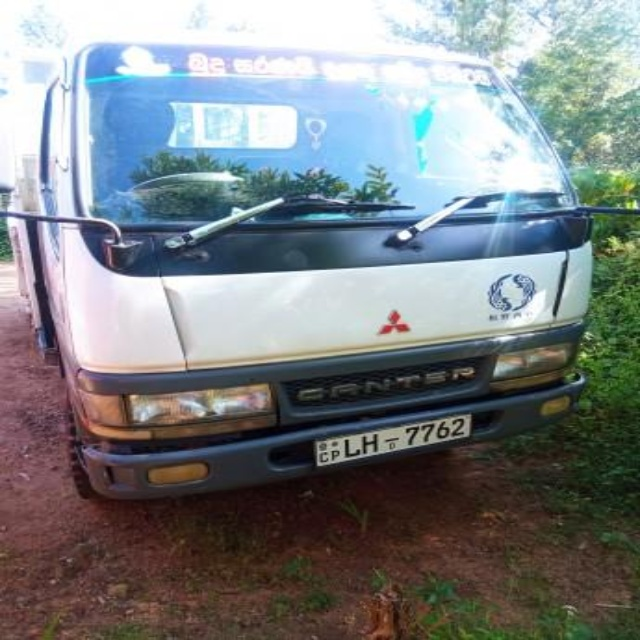Truck: (7, 32, 592, 502)
